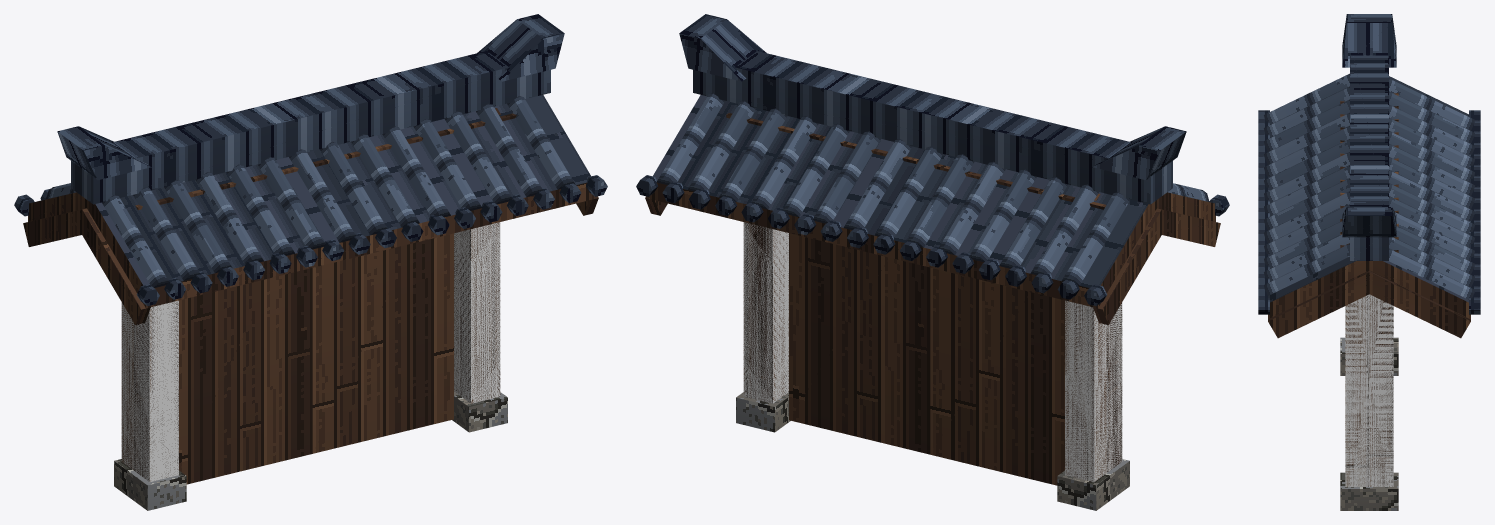
File: JP_Rich_CompoundGate_A.glb
The picture shows the model from 3 angles, left to right: view 1: azimuth 30°, elevation 25°; view 2: azimuth 150°, elevation 25°; view 3: azimuth 270°, elevation 25°; orthographic projection. The views are drawn at different scales.
Parts seen in each view (by area): view 1: JP_Rich_CompoundGate_A, COL_JP_Rich_CompoundGate_A_-18, COL_JP_Rich_CompoundGate_A_15; view 2: JP_Rich_CompoundGate_A, COL_JP_Rich_CompoundGate_A_-18, COL_JP_Rich_CompoundGate_A_15; view 3: JP_Rich_CompoundGate_A, COL_JP_Rich_CompoundGate_A_15.
Boxes of the visible parts, <box> form: JP_Rich_CompoundGate_A: <box>14,14,607,510</box>; COL_JP_Rich_CompoundGate_A_-18: <box>121,300,178,481</box>; COL_JP_Rich_CompoundGate_A_15: <box>454,222,500,403</box>; JP_Rich_CompoundGate_A: <box>636,14,1229,510</box>; COL_JP_Rich_CompoundGate_A_-18: <box>1065,300,1122,481</box>; COL_JP_Rich_CompoundGate_A_15: <box>743,222,788,403</box>; JP_Rich_CompoundGate_A: <box>1258,14,1480,510</box>; COL_JP_Rich_CompoundGate_A_15: <box>1345,294,1393,486</box>.
Bounding box in the file's own units: 4.94 × 3.65 × 2.3.
Materials: 5 (5 with a texture image).
